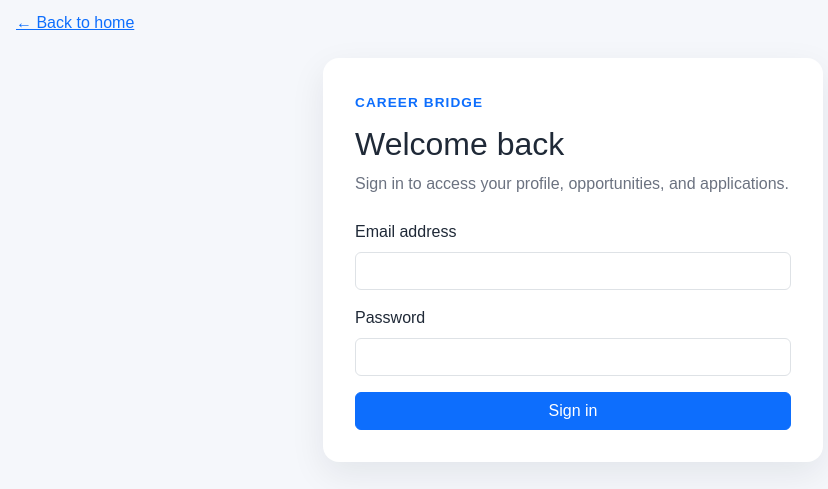
Scenario: AuthPage › submits login credentials
This screenshot has width=828, height=489.
Type "student@example.com" into the field labelled "Email address".
click(573, 271); type("student@example.com")  # box [355,252,791,290]
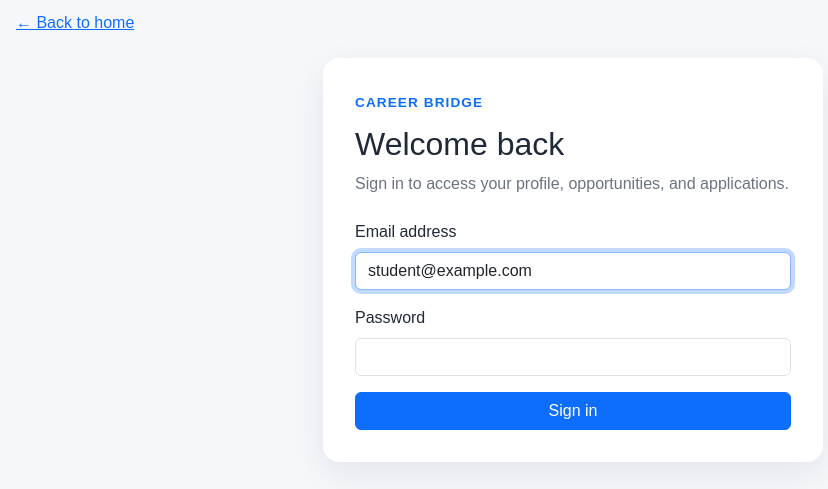
Type "password" into the password field labelled "Password".
click(573, 357); type("password")  # box [355,338,791,376]
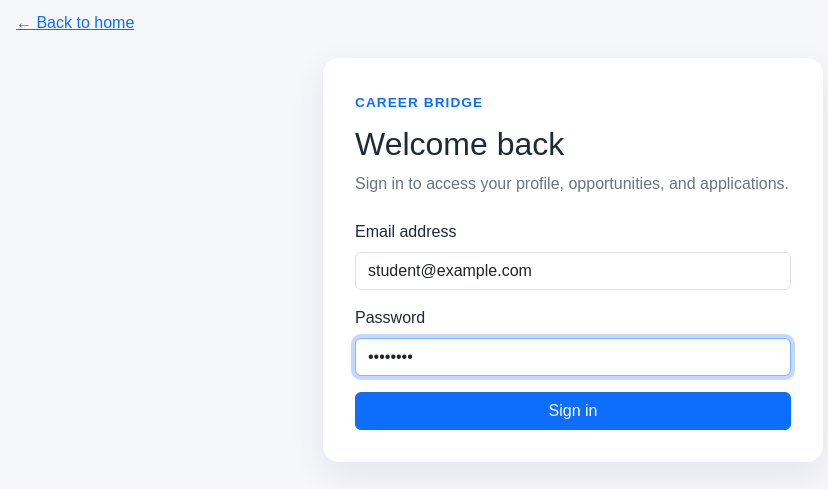
Click the button "Sign in".
click(573, 411)  # box [355,392,791,430]
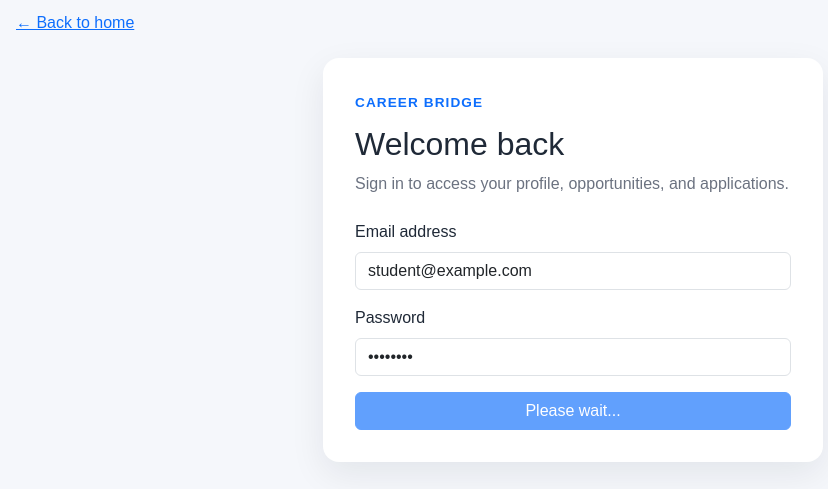
Result: the button "Please wait..." is disabled at [355,392,791,430]
